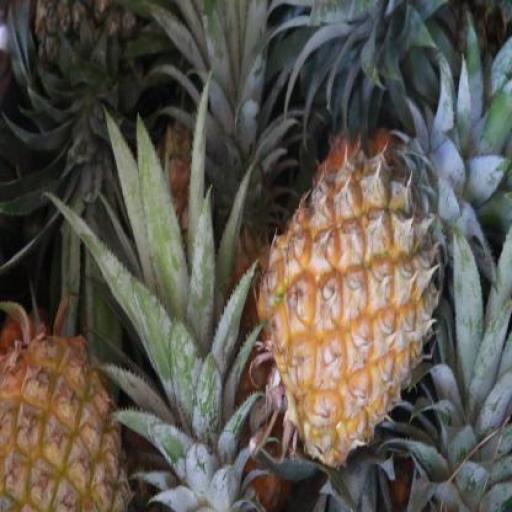------------------------------: (0, 332, 128, 512)
Pineapple - v8 v1: (257, 144, 459, 464)
